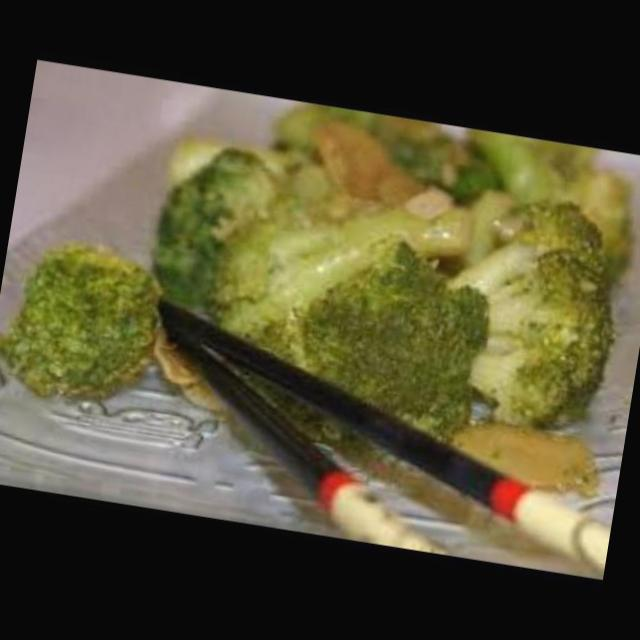Broccoli: (86, 108, 640, 461), (0, 209, 188, 417)
